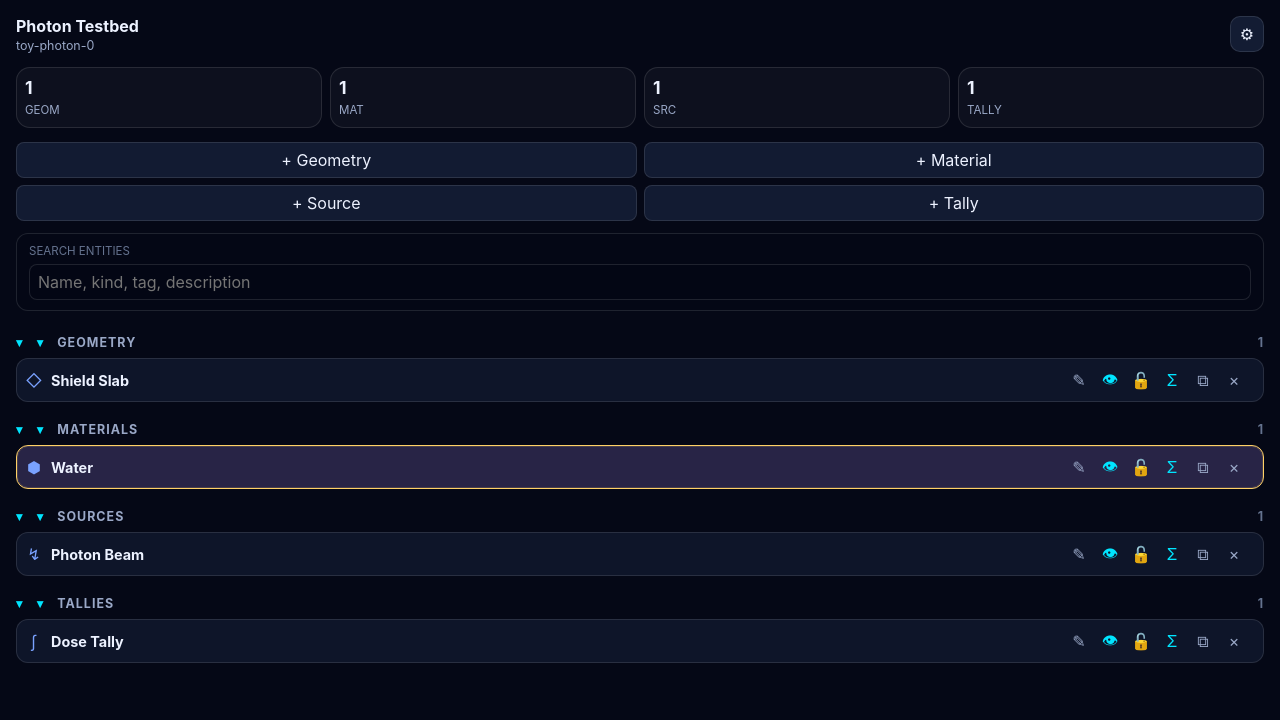
Test case: ProjectTree › filters by tag while preserving the search surface
The width and height of the screenshot is (1280, 720).
Type "moderator" into the field with placeholder "Name, kind, tag, description" at {"x": 640, "y": 282}, box 29,264 -> 1251,300
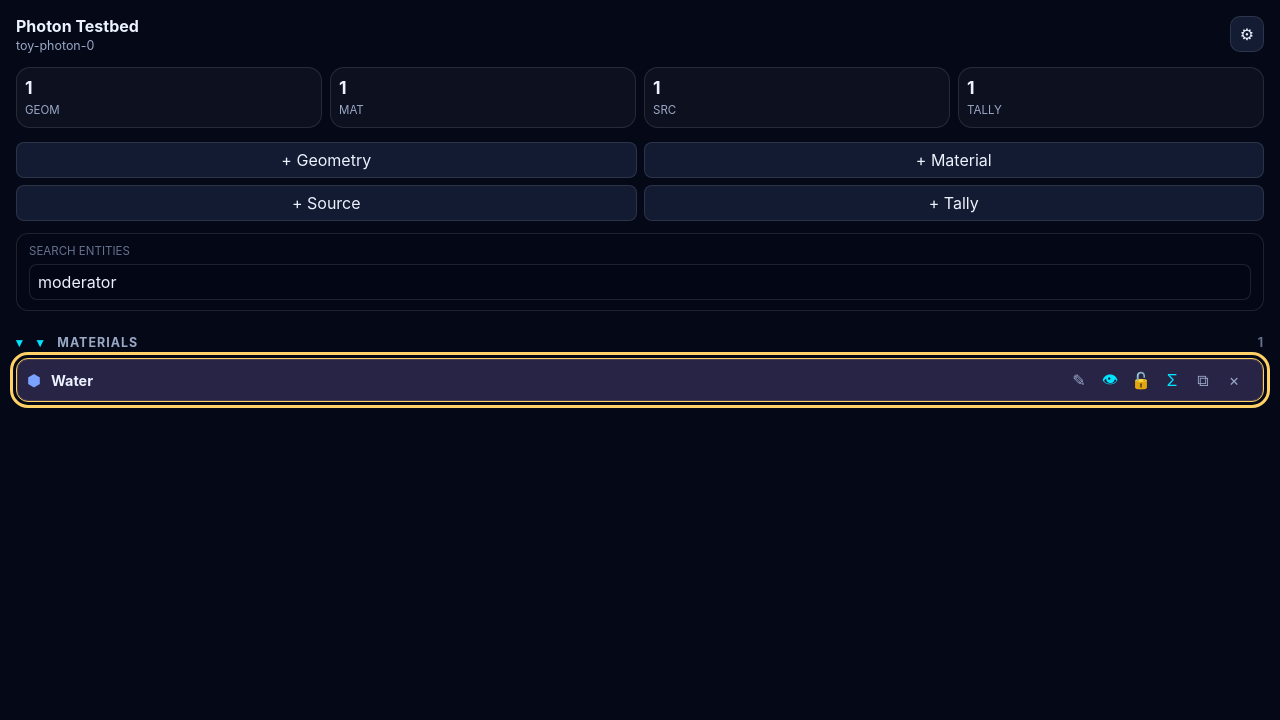
Expected: the text "Water" is shown, 51,372 -> 93,388
Result: the text "Shield Slab" is gone
